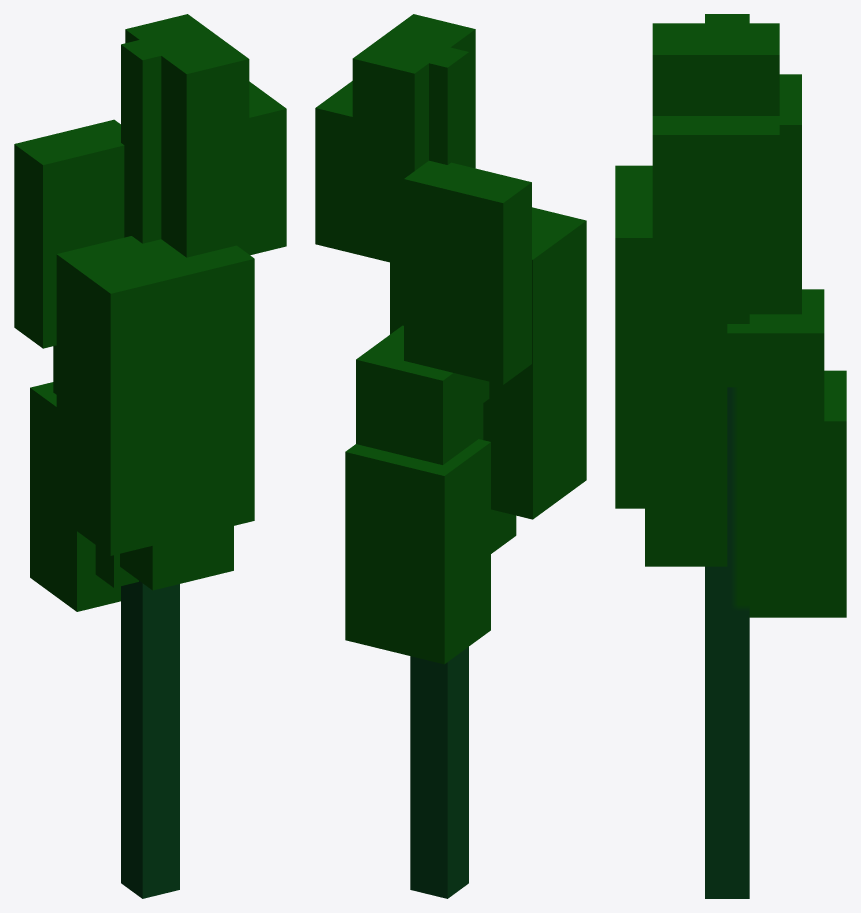
Rendered from Tree01.obj.
3 views of the same model, side by side, from view 1: azimuth 30°, elevation 25°; view 2: azimuth 150°, elevation 25°; view 3: azimuth 270°, elevation 25° (orthographic). The views are drawn at different scales.
Visible parts, largest first — view 1: Box; view 2: Box; view 3: Box.
Part boxes in pixels (x1,y1,x2,y2): Box: [14, 14, 286, 898]; Box: [315, 14, 586, 898]; Box: [615, 14, 846, 898].
Bounding box in the file's own units: 0.992 × 3.97 × 0.961.
Materials: 1 (1 with a texture image).
